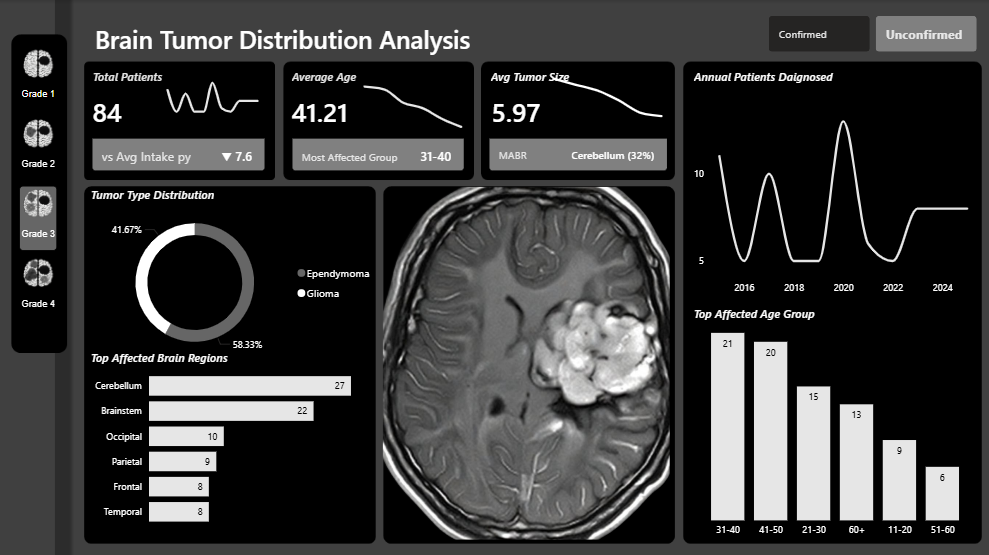

What the dashboard file says about the page in this screenshot:
{"tool":"powerbi","page":{"name":"Page 1","canvas":[1280,720],"ordinal":0},"visuals":[{"type":"cardVisual","fields":{"Data":["Count(Brain Tumor Data.Patient ID)"]},"box":[92.1,96.4,137.5,89.3],"z":0},{"type":"lineChart","fields":{"Category":["Brain Tumor Data.Date of Diagnosis.Variation.Date Hierarchy.Year"],"Y":["CountNonNull(Brain Tumor Data.Patient ID)"]},"box":[202.7,83.6,146,89.3],"z":1000},{"type":"cardVisual","fields":{"Data":["Count(Brain Tumor Data.Patient ID)"]},"box":[92.1,83.6,280.6,165.8],"z":2000},{"type":"textbox","box":[116.2,83.6,113.4,45.4],"z":3000},{"type":"cardVisual","fields":{"Data":["Avg(Brain Tumor Data.Age)"]},"box":[348.7,96.4,151.7,89.3],"z":4000},{"type":"lineChart","fields":{"Y":["CountNonNull(Brain Tumor Data.Patient ID)"],"Category":["Brain Tumor Data.Age Group"]},"box":[456.4,83.6,154.5,89.3],"z":5000},{"type":"cardVisual","fields":{"Data":["Count(Brain Tumor Data.Patient ID)"]},"box":[350.1,83.6,279.2,165.8],"z":6000},{"type":"textbox","box":[372.8,83.6,113.4,45.4],"z":7000},{"type":"textbox","box":[629.3,83.6,113.4,45.4],"z":8000},{"type":"cardVisual","fields":{"Data":["Count(Brain Tumor Data.Patient ID)"]},"box":[603.8,83.6,287.7,165.8],"z":9000},{"type":"cardVisual","fields":{"Data":["Avg(Brain Tumor Data.Tumor Size (cm))"]},"box":[606.6,96.4,141.7,89.3],"z":10000},{"type":"lineChart","fields":{"Y":["Avg(Brain Tumor Data.Tumor Size (cm))"],"Category":["Brain Tumor Data.Affected Brain Region"]},"box":[700.2,83.6,170.1,89.3],"z":11000},{"type":"advancedSlicerVisual","fields":{"Values":["Brain Tumor Data.Histology Confirmation"]},"box":[987.9,15.6,279.2,56.7],"z":12000},{"type":"ChicletSlicer1448559807354","fields":{"Category":["Tumor Images.Tumor Grade"],"Image":["Tumor Images.Icon URL"]},"box":[18.4,51,73.7,395.4],"z":13000},{"type":"imageDB603108E3FF4EBFB8047F5653368E8C","fields":{"imageUrl":["Tumor Images.Image URL"]},"box":[490.4,236.7,379.8,464.9],"z":14000},{"type":"donutChart","fields":{"Category":["Brain Tumor Data.Tumor Type"],"Y":["CountNonNull(Brain Tumor Data.Patient ID)"]},"box":[116.2,249.4,377,231],"z":15000},{"type":"textbox","box":[113.4,236.7,177.2,45.4],"z":16000},{"type":"clusteredBarChart","fields":{"Category":["Brain Tumor Data.Affected Brain Region"],"Y":["CountNonNull(Brain Tumor Data.Patient ID)"]},"box":[113.4,459.2,367.1,232.4],"z":17000},{"type":"textbox","box":[113.4,446.5,205.5,45.4],"z":18000},{"type":"lineChart","fields":{"Y":["CountNonNull(Brain Tumor Data.Patient ID)"],"Category":["Brain Tumor Data.Date of Diagnosis.Variation.Date Hierarchy.Year"]},"box":[891.5,120.5,375.6,269.3],"z":19000},{"type":"textbox","box":[891.5,83.6,205.5,36.9],"z":20000},{"type":"clusteredColumnChart","fields":{"Category":["Brain Tumor Data.Age Group"],"Y":["CountNonNull(Brain Tumor Data.Patient ID)"]},"box":[891.5,389.8,375.6,311.8],"z":21000},{"type":"textbox","box":[891.5,389.8,188.5,39.7],"z":22000},{"type":"textbox","box":[119.1,22.7,521.6,60.9],"z":22001}]}

Visuals, with their boxes in screenshot pixels (x1, y1, x2, y2), scaled from the page's 1280x720 canvas onto the 989x555 screenshot:
cardVisual - Count(Brain Tumor Data.Patient ID): BBox(71, 74, 177, 143)
lineChart - Brain Tumor Data.Date of Diagnosis.Variation.Date Hierarchy.Year x CountNonNull(Brain Tumor Data.Patient ID): BBox(157, 64, 269, 133)
cardVisual - Count(Brain Tumor Data.Patient ID): BBox(71, 64, 288, 192)
textbox: BBox(90, 64, 177, 99)
cardVisual - Avg(Brain Tumor Data.Age): BBox(269, 74, 387, 143)
lineChart - CountNonNull(Brain Tumor Data.Patient ID) x Brain Tumor Data.Age Group: BBox(353, 64, 472, 133)
cardVisual - Count(Brain Tumor Data.Patient ID): BBox(271, 64, 486, 192)
textbox: BBox(288, 64, 376, 99)
textbox: BBox(486, 64, 574, 99)
cardVisual - Count(Brain Tumor Data.Patient ID): BBox(467, 64, 689, 192)
cardVisual - Avg(Brain Tumor Data.Tumor Size (cm)): BBox(469, 74, 578, 143)
lineChart - Avg(Brain Tumor Data.Tumor Size (cm)) x Brain Tumor Data.Affected Brain Region: BBox(541, 64, 672, 133)
advancedSlicerVisual - Brain Tumor Data.Histology Confirmation: BBox(763, 12, 979, 56)
ChicletSlicer1448559807354 - Tumor Images.Tumor Grade x Tumor Images.Icon URL: BBox(14, 39, 71, 344)
imageDB603108E3FF4EBFB8047F5653368E8C - Tumor Images.Image URL: BBox(379, 182, 672, 541)
donutChart - Brain Tumor Data.Tumor Type x CountNonNull(Brain Tumor Data.Patient ID): BBox(90, 192, 381, 370)
textbox: BBox(88, 182, 225, 217)
clusteredBarChart - Brain Tumor Data.Affected Brain Region x CountNonNull(Brain Tumor Data.Patient ID): BBox(88, 354, 371, 533)
textbox: BBox(88, 344, 246, 379)
lineChart - CountNonNull(Brain Tumor Data.Patient ID) x Brain Tumor Data.Date of Diagnosis.Variation.Date Hierarchy.Year: BBox(689, 93, 979, 300)
textbox: BBox(689, 64, 848, 93)
clusteredColumnChart - Brain Tumor Data.Age Group x CountNonNull(Brain Tumor Data.Patient ID): BBox(689, 300, 979, 541)
textbox: BBox(689, 300, 834, 331)
textbox: BBox(92, 17, 495, 64)
